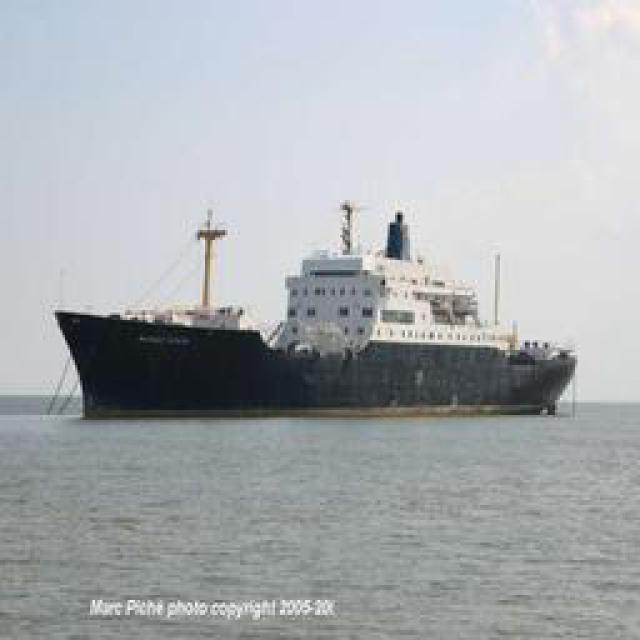Ship: (41, 197, 576, 420)
